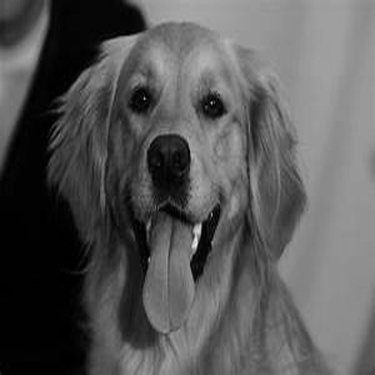dog: (40, 11, 337, 372)
